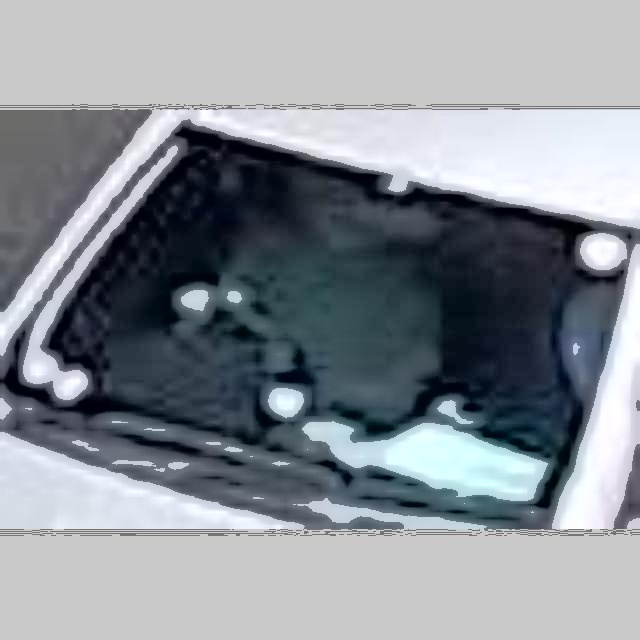tidak-pakai: (172, 165, 427, 461)
